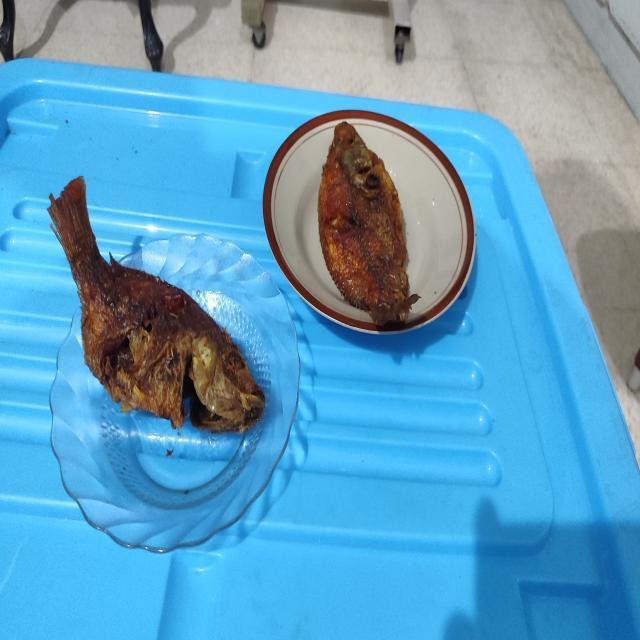ikan_mujair: (48, 176, 265, 432), (318, 122, 420, 330)
